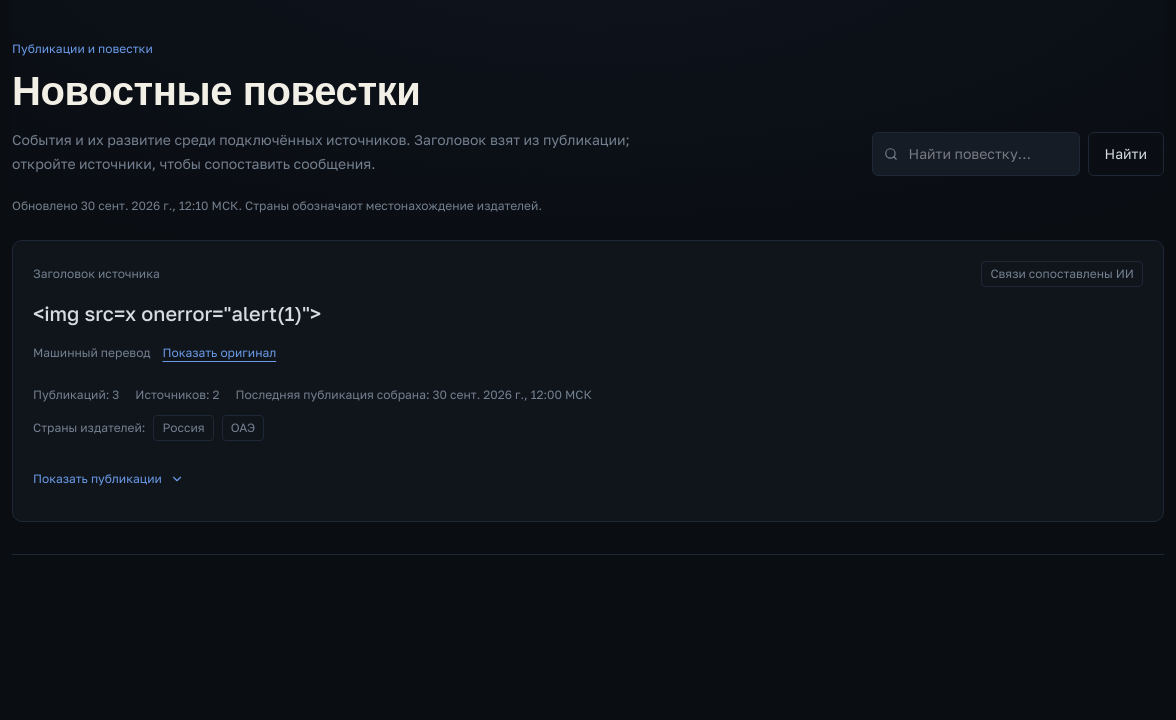
Test: Agenda titles in Russian › renders translated and original markup as plain source text
Expected: the heading "<img src=x onerror=\"alert(1)\">" is shown, [33, 301, 321, 325]
Click the button "Показать оригинал" at (219, 353), box [162, 331, 276, 375]
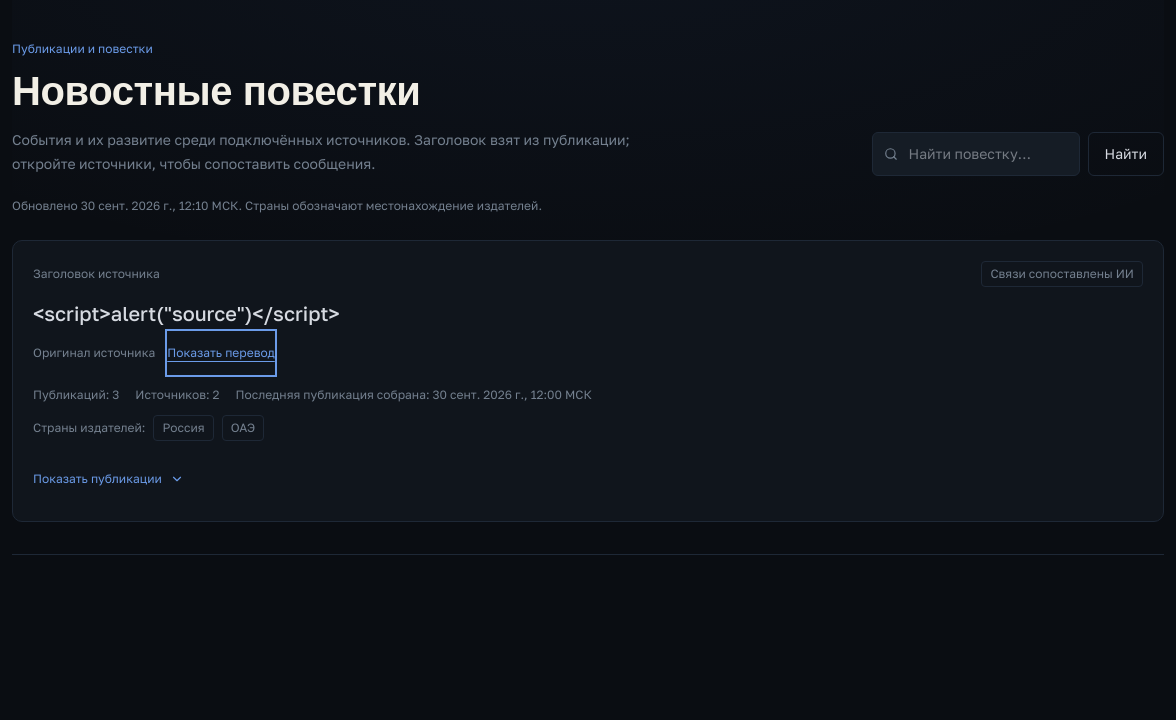
Result: the heading "<script>alert(\"source\")</script>" is shown at [33, 301, 340, 325]
